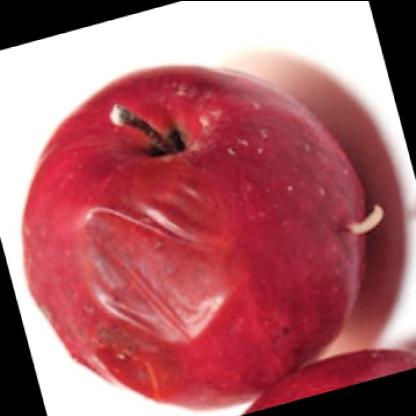defect: (52, 172, 262, 392)
